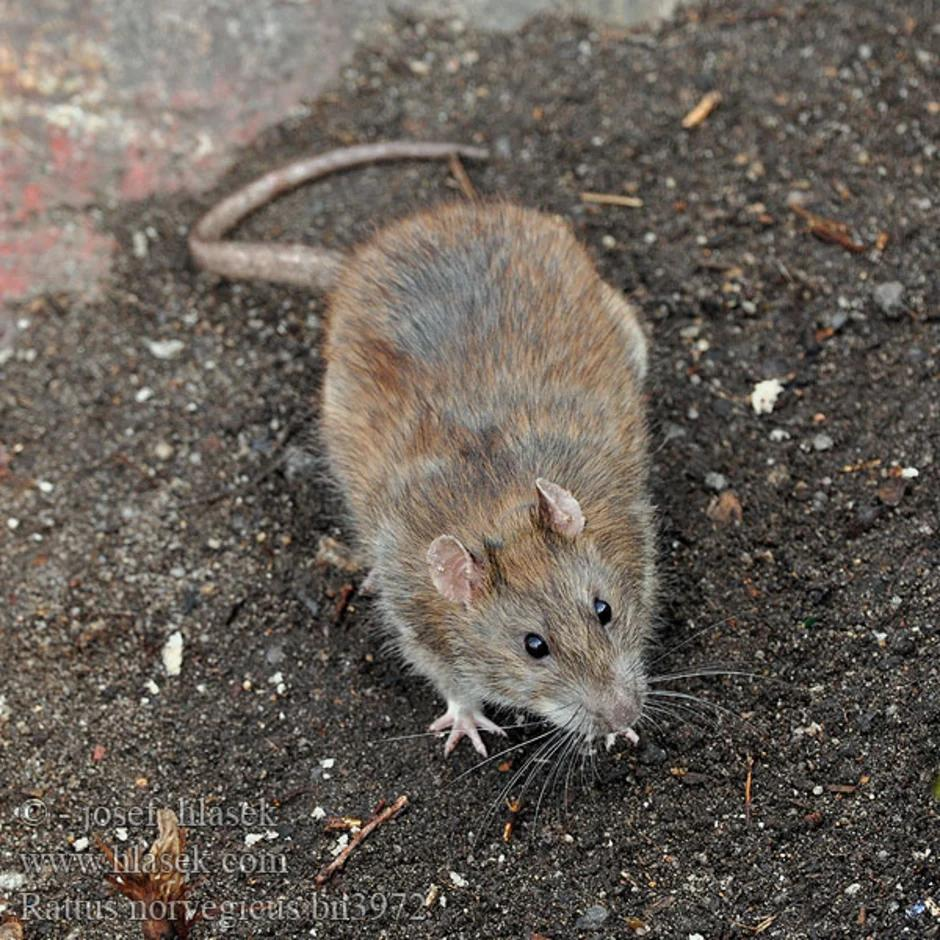rat: (321, 202, 657, 750)
